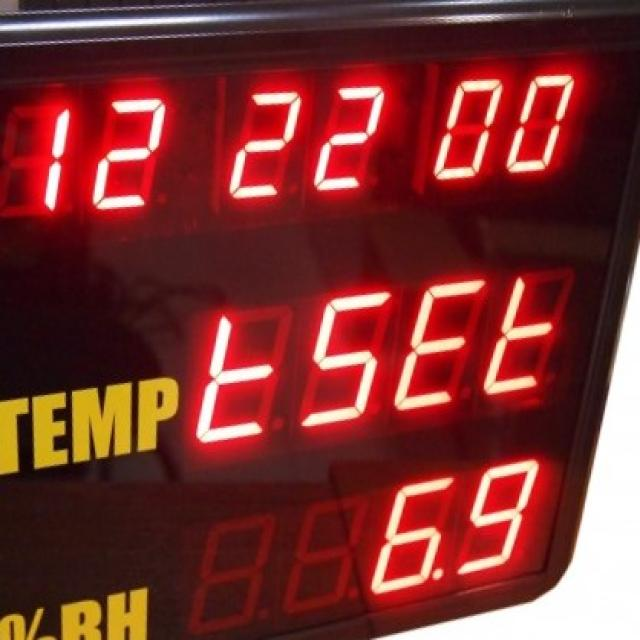.: (425, 560, 447, 586)
0: (504, 69, 574, 174), (430, 79, 501, 182)
1: (40, 99, 69, 212)
2: (90, 94, 166, 209), (224, 86, 300, 201), (314, 82, 381, 194)
5: (308, 276, 382, 443)
6: (366, 474, 452, 588)
9: (458, 458, 541, 583)
